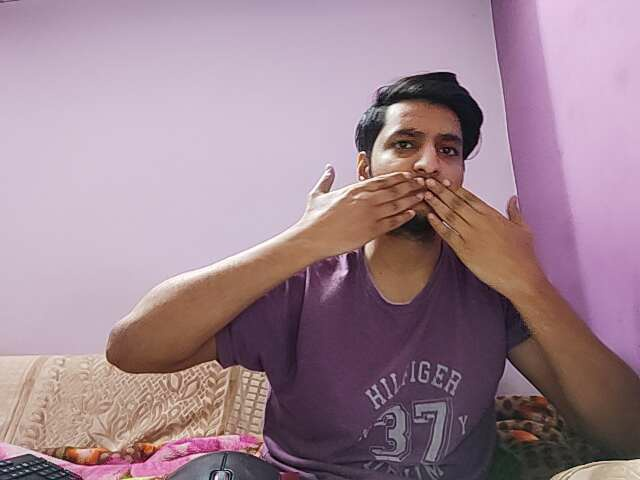ThankYou: (309, 165, 534, 278)
